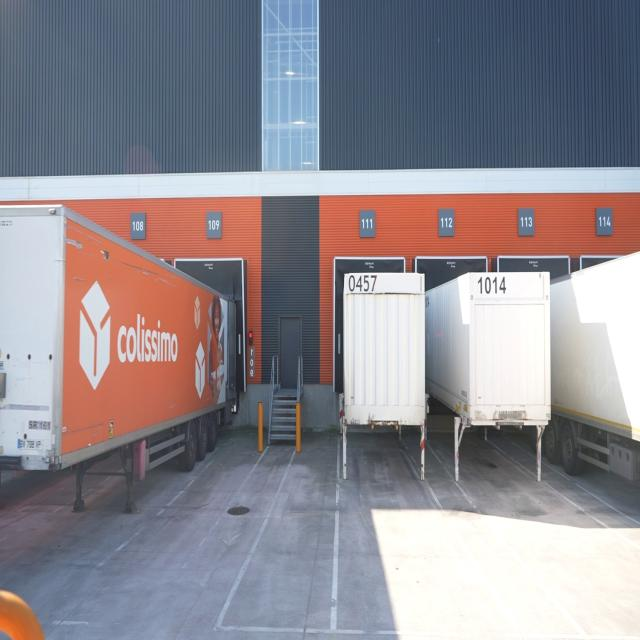Code: (475, 272, 516, 297), (346, 270, 383, 295)
